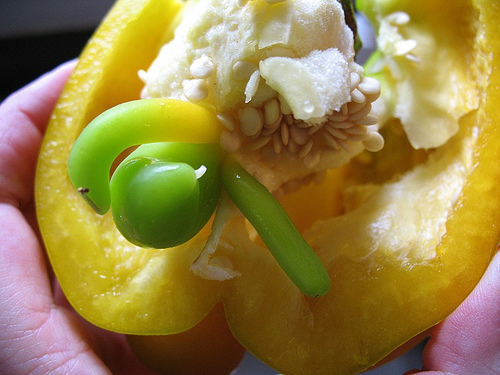capsicum: (32, 0, 497, 374)
